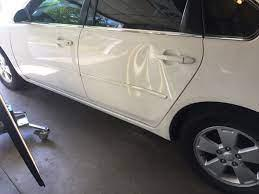doorouter-dent: (123, 36, 171, 107)
